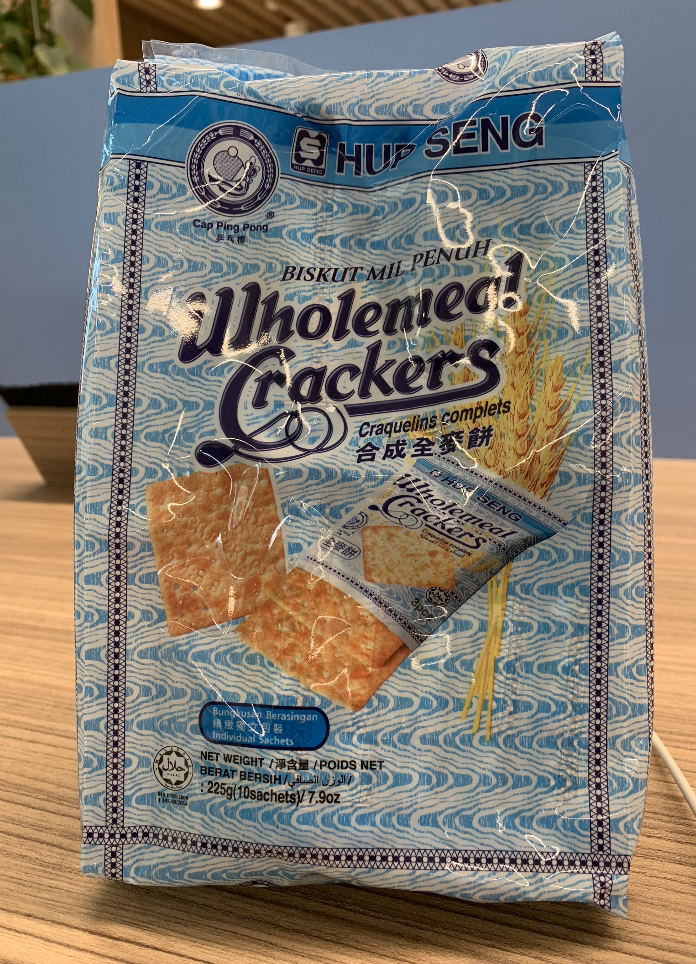crackers_150g: (128, 97, 607, 862)
